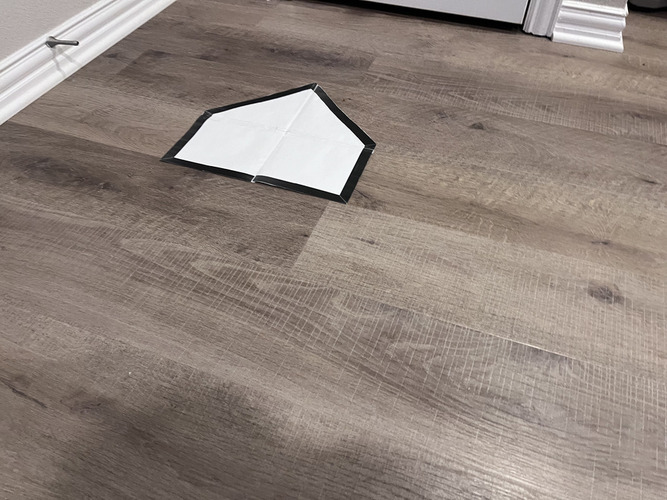homeplate: (157, 82, 375, 204)
